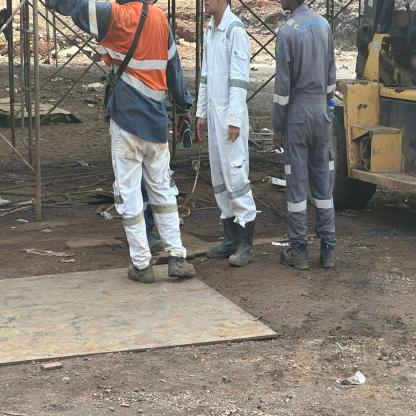bota: (204, 216, 240, 258), (228, 222, 257, 266), (277, 241, 312, 271), (167, 250, 197, 279), (125, 261, 154, 284), (316, 239, 336, 270)
